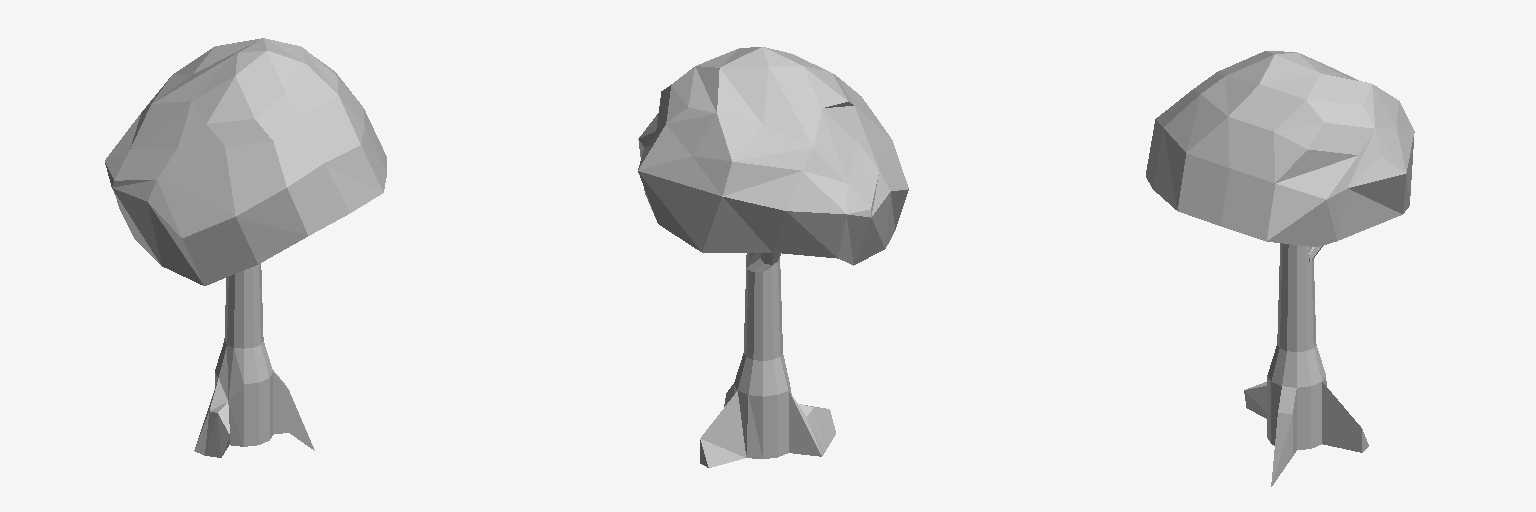
The model's file is basetree1.obj.
The picture shows the model from 3 angles: view 1: azimuth 30°, elevation 25°; view 2: azimuth 150°, elevation 25°; view 3: azimuth 270°, elevation 25°; orthographic projection.
Parts seen in each view (by area): view 1: Plane, Cylinder; view 2: Plane, Cylinder; view 3: Plane, Cylinder.
Boxes of the visible parts, x1=… form: Plane: x1=105, y1=38, x2=386, y2=285; Cylinder: x1=194, y1=263, x2=314, y2=457; Plane: x1=638, y1=47, x2=908, y2=265; Cylinder: x1=700, y1=253, x2=835, y2=467; Plane: x1=1146, y1=51, x2=1414, y2=246; Cylinder: x1=1244, y1=243, x2=1368, y2=486.
Size of the model in its own units: 9.72 by 15.41 by 9.15.